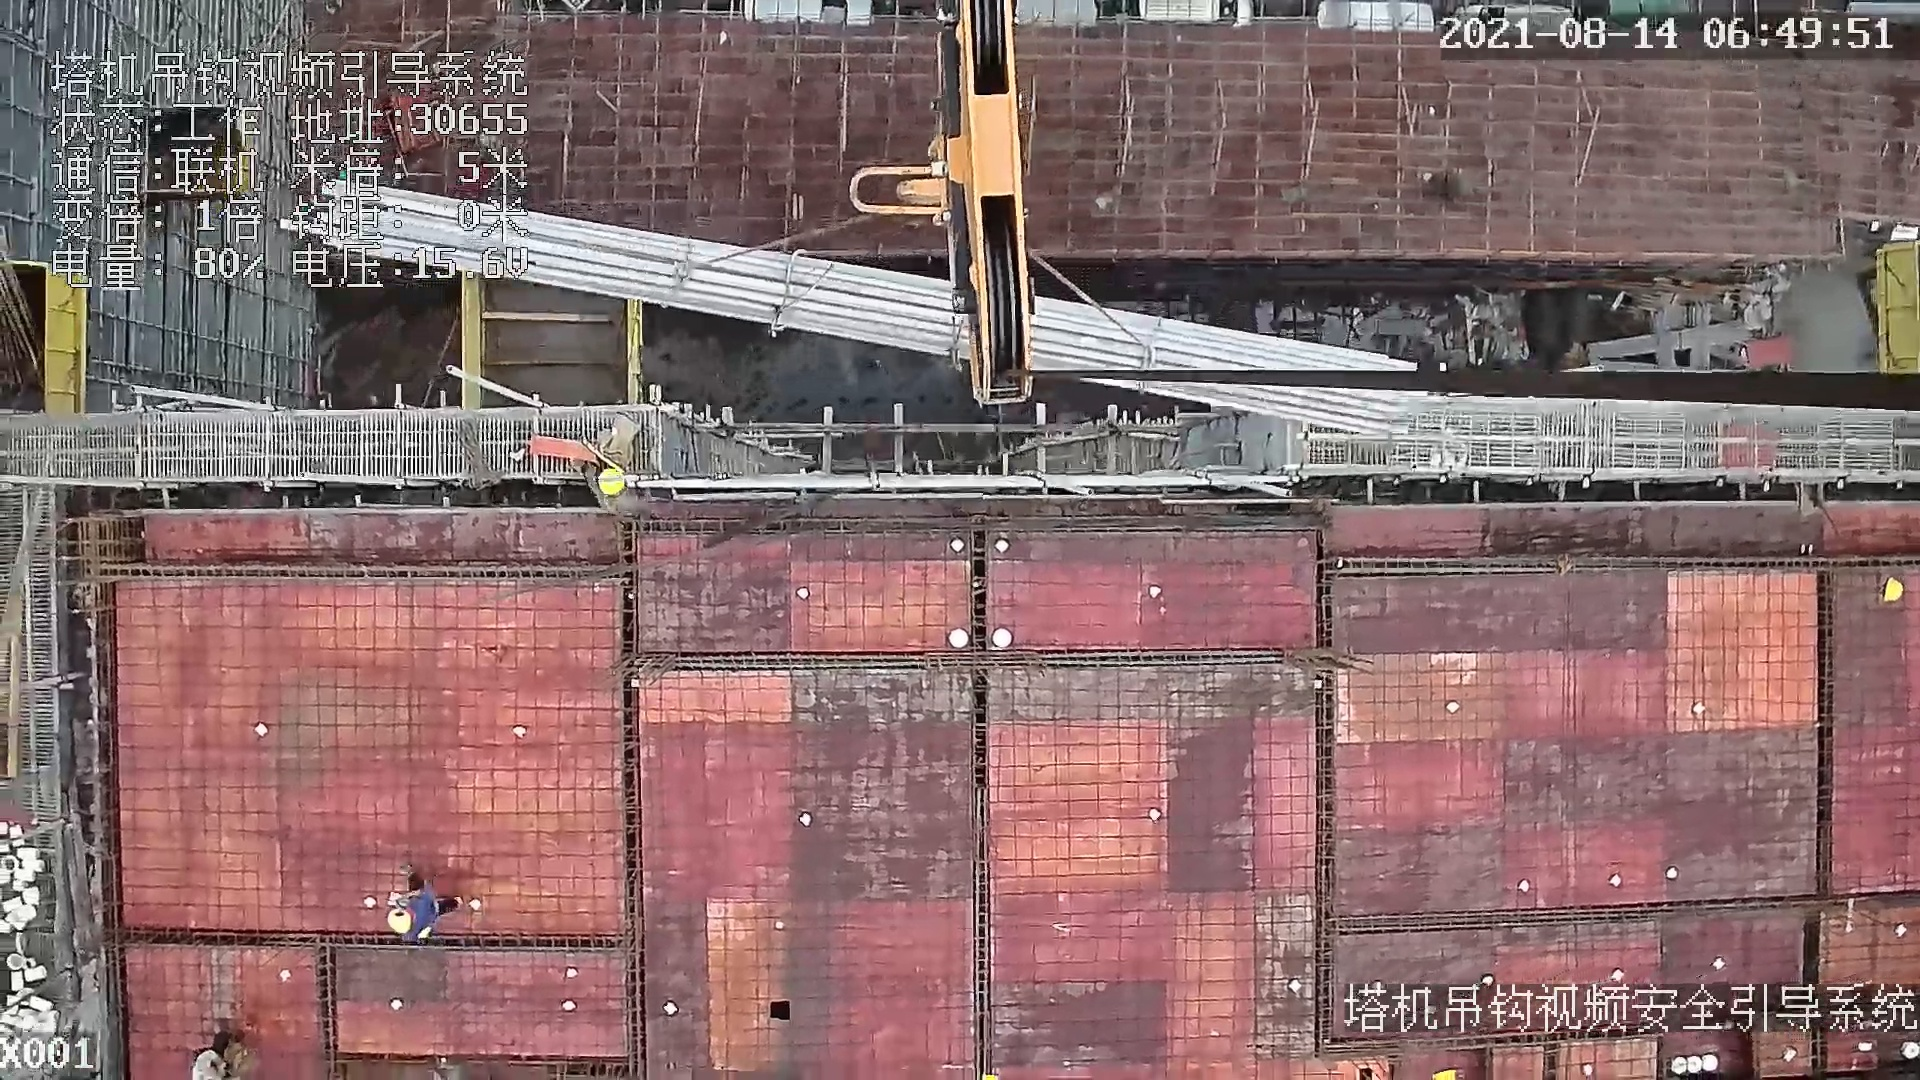helmet: (1872, 573, 1912, 613), (592, 468, 638, 499), (386, 905, 420, 937)
person: (372, 864, 463, 953), (576, 439, 632, 517)
